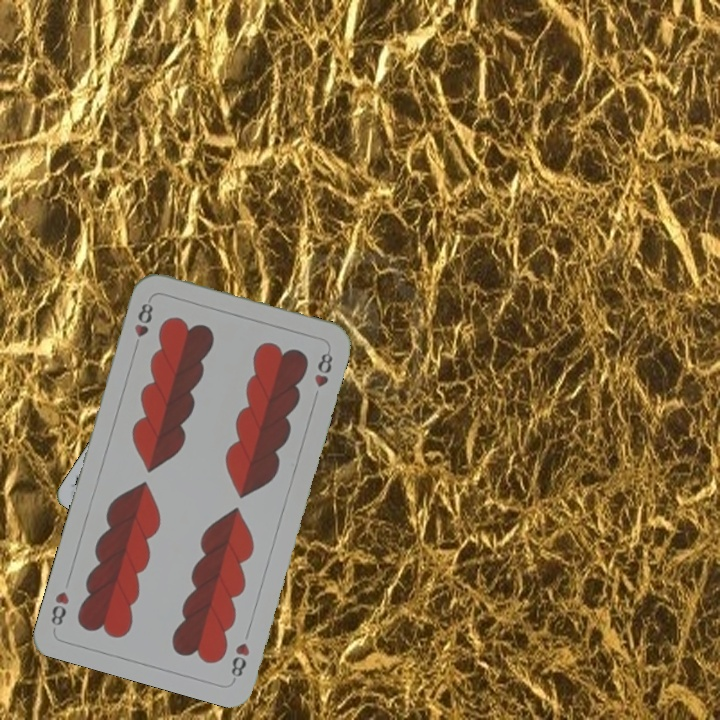H8: (130, 298, 156, 353), (227, 638, 253, 683)
